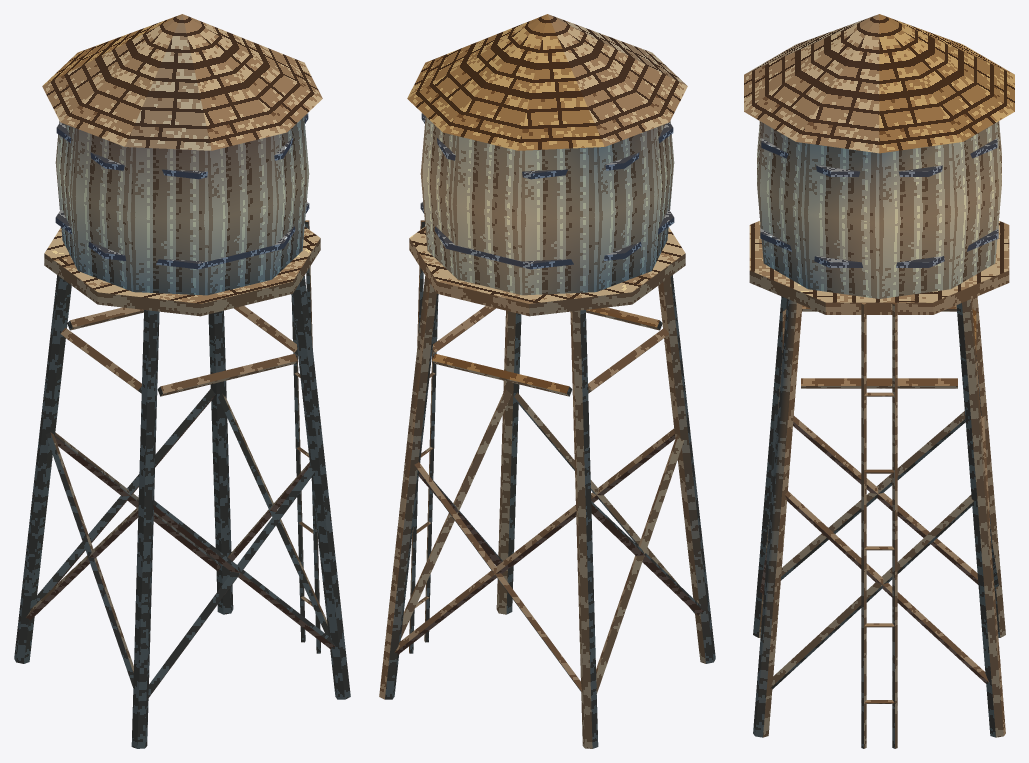
The model's file is wtown.water_tower__tall.glb.
3 views of the same model, side by side, from view 1: azimuth 30°, elevation 25°; view 2: azimuth 150°, elevation 25°; view 3: azimuth 270°, elevation 25° (orthographic).
Parts seen in each view (by area): view 1: kit_tank, kit_cap, kit_legs, kit_bracing_x, kit_bracing, kit_deck, kit_girts, kit_hoops, kit_ladder; view 2: kit_tank, kit_cap, kit_legs, kit_bracing_x, kit_bracing, kit_deck, kit_girts, kit_hoops, kit_ladder; view 3: kit_tank, kit_cap, kit_legs, kit_deck, kit_ladder, kit_bracing_x, kit_bracing, kit_hoops, kit_girts, kit_rungs.
Boxes of the visible parts, <box> form: kit_tank: <box>55,116,309,295</box>; kit_cap: <box>42,14,322,150</box>; kit_legs: <box>14,275,350,748</box>; kit_bracing_x: <box>36,388,335,687</box>; kit_bracing: <box>26,393,328,698</box>; kit_deck: <box>44,226,320,316</box>; kit_girts: <box>60,306,297,396</box>; kit_hoops: <box>55,113,309,269</box>; kit_ladder: <box>291,220,320,653</box>; kit_tank: <box>420,116,674,295</box>; kit_cap: <box>407,14,687,150</box>; kit_legs: <box>379,275,715,748</box>; kit_bracing_x: <box>401,389,703,692</box>; kit_bracing: <box>394,392,694,693</box>; kit_deck: <box>409,226,685,316</box>; kit_girts: <box>432,306,669,396</box>; kit_hoops: <box>420,113,674,269</box>; kit_ladder: <box>409,220,438,653</box>; kit_tank: <box>757,121,1001,298</box>; kit_cap: <box>744,14,1014,153</box>; kit_legs: <box>753,296,1005,737</box>; kit_deck: <box>749,221,1009,314</box>; kit_ladder: <box>861,302,897,748</box>; kit_bracing_x: <box>766,410,998,683</box>; kit_bracing: <box>760,415,991,689</box>; kit_hoops: <box>760,138,998,267</box>; kit_girts: <box>782,305,976,388</box>; kit_rungs: <box>864,392,894,703</box>.
Size of the model in its own units: 4.72 by 11.86 by 4.34.
Materials: 5 (5 with a texture image).
